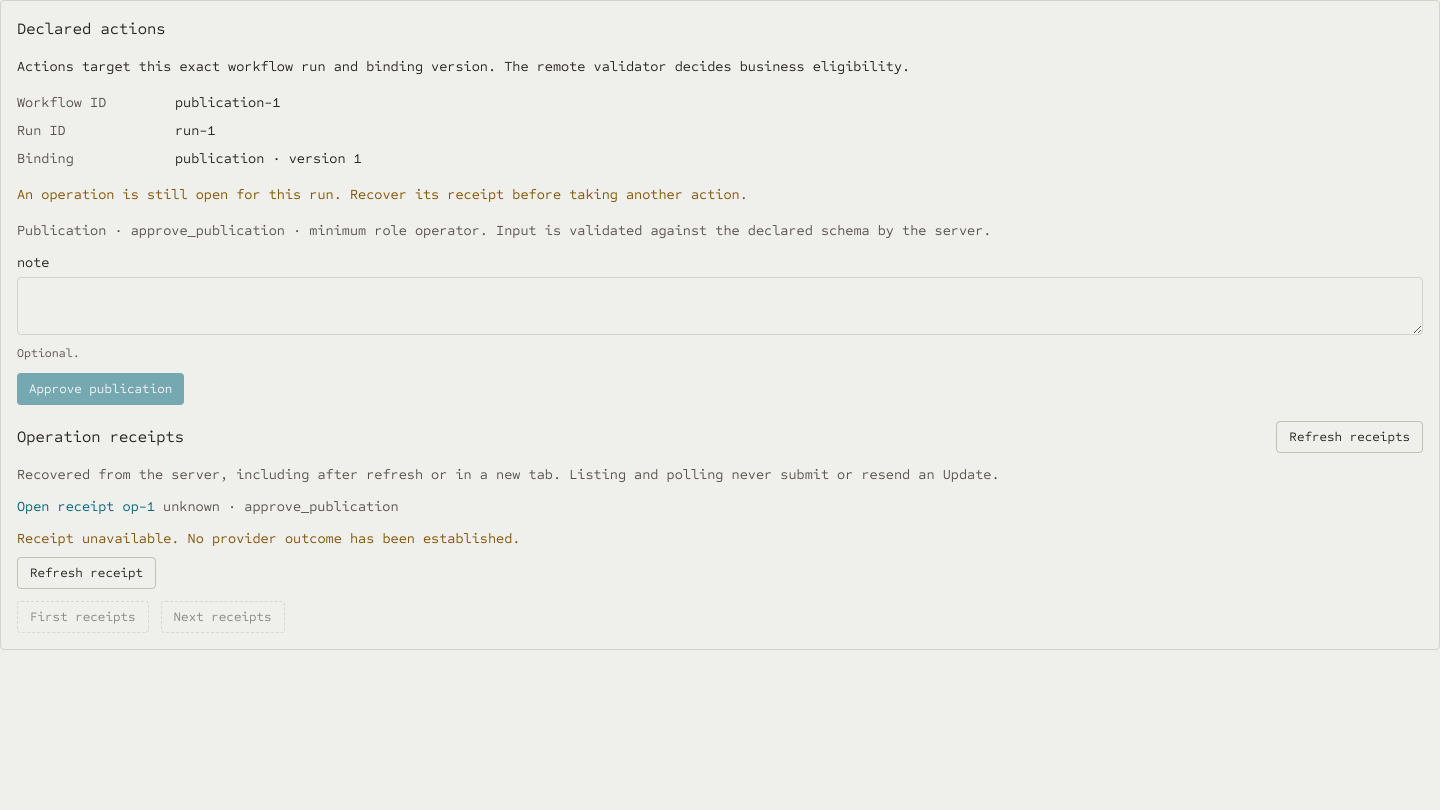
server operation receipts › can explicitly recover an initial selected-receipt failure without reloading or sending
Expected: the text "Receipt unavailable. No provider outcome has been established." is shown, [17,530,520,547]
Click the button "Refresh receipt" at point(87, 573), box [17,557,156,589]
(page scrolled)
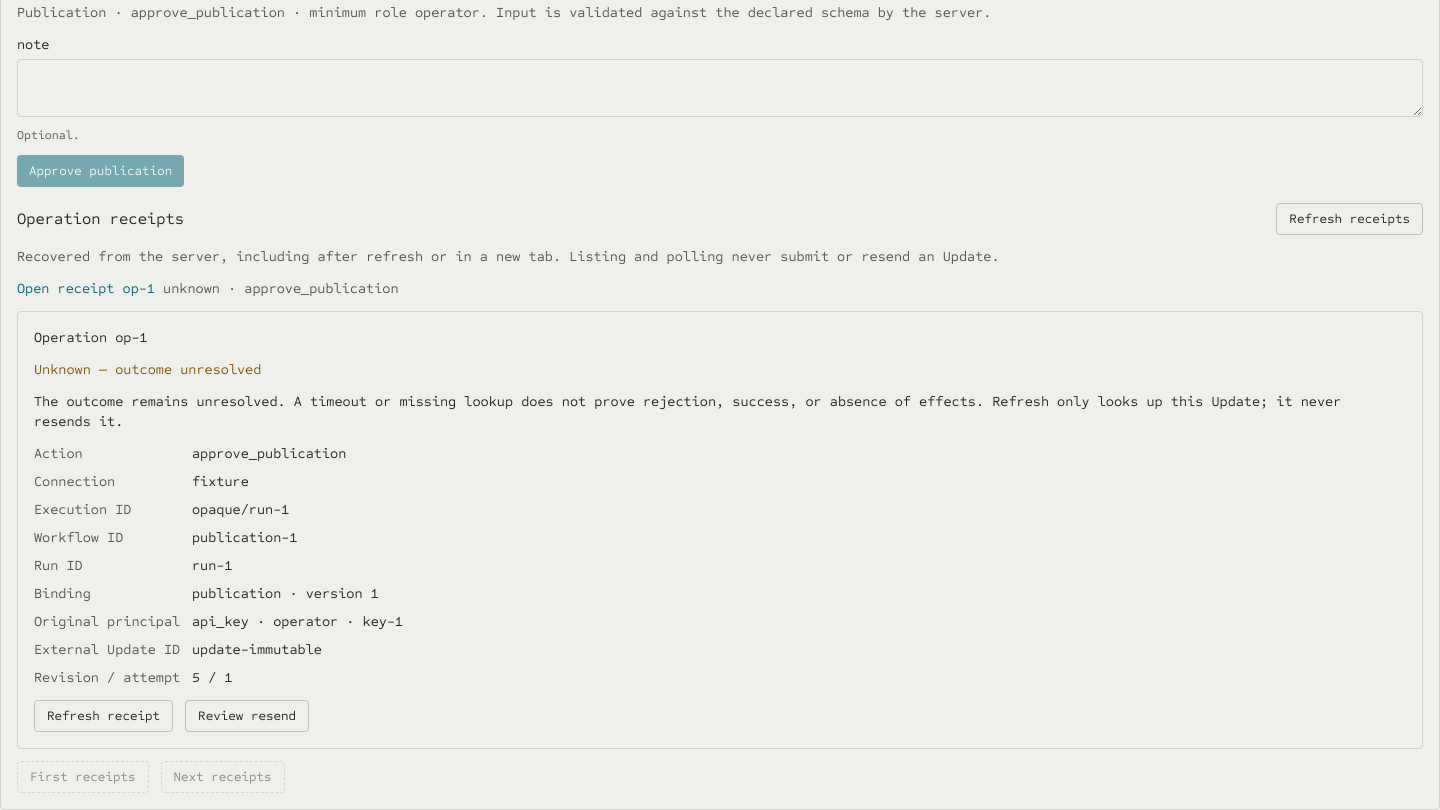
Expected: the text "Receipt unavailable. No provider outcome has been established." is gone
